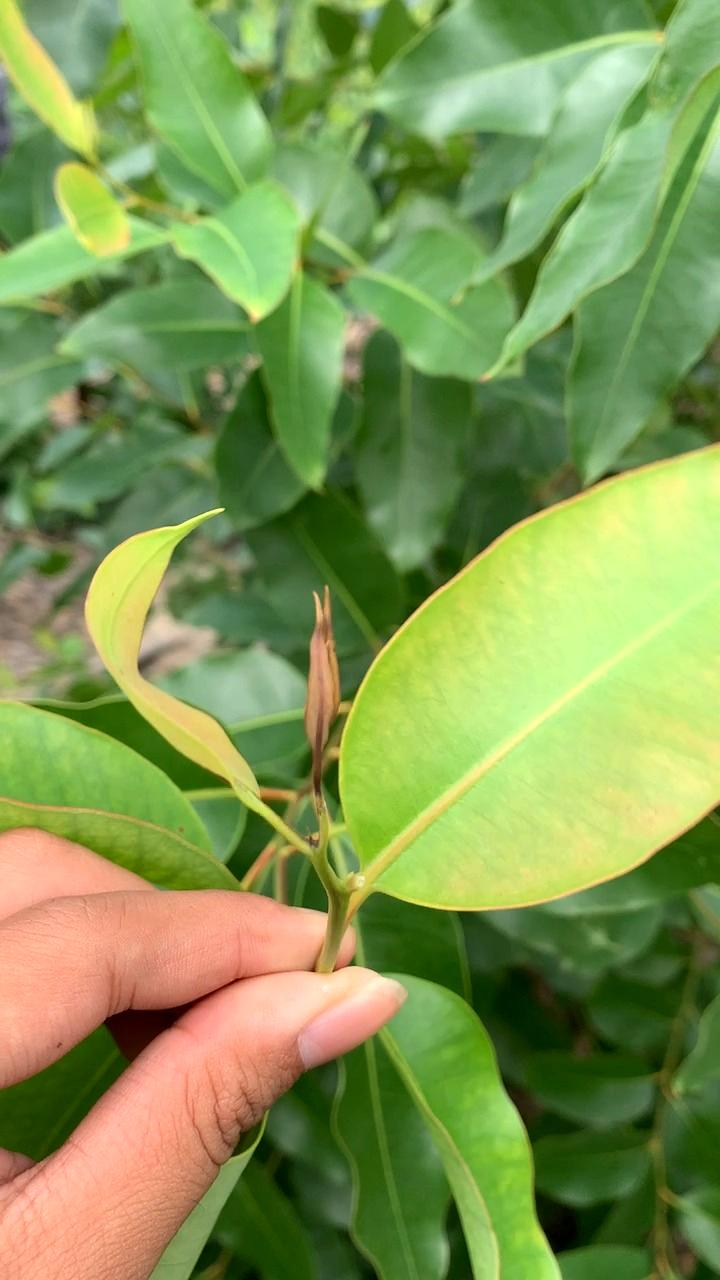Helopeltis-Withered Sprout: (279, 578, 368, 785)
